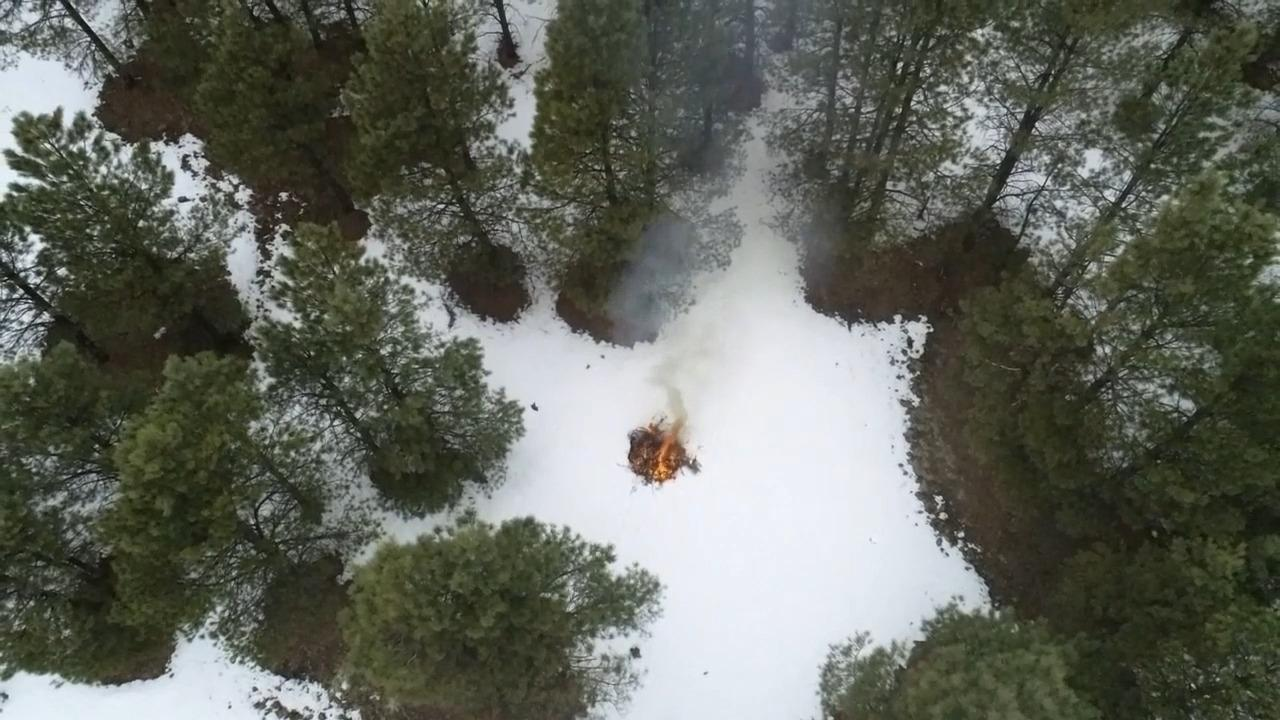fire: (625, 402, 690, 482)
smoke: (614, 227, 686, 332)
